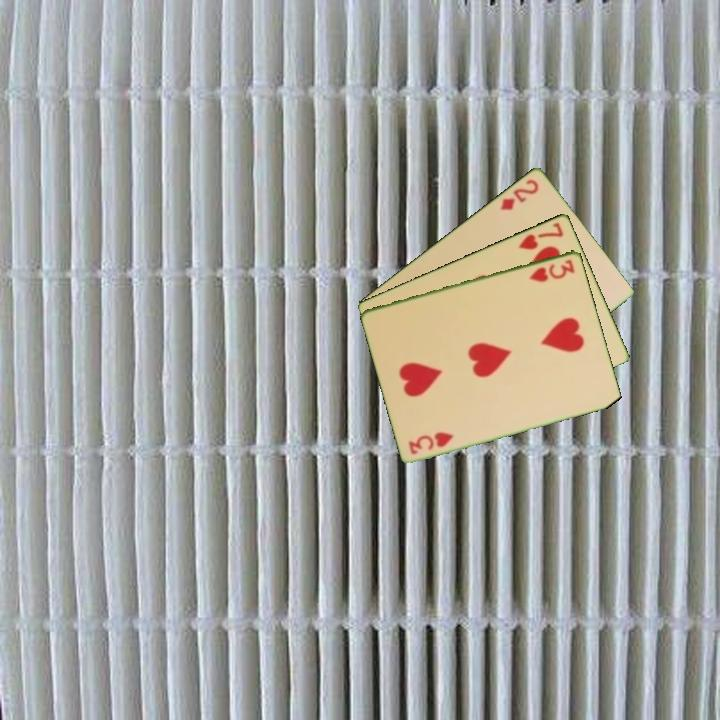2d: (497, 175, 542, 213)
3h: (526, 256, 578, 285), (405, 428, 457, 457)
7h: (515, 219, 566, 252)
